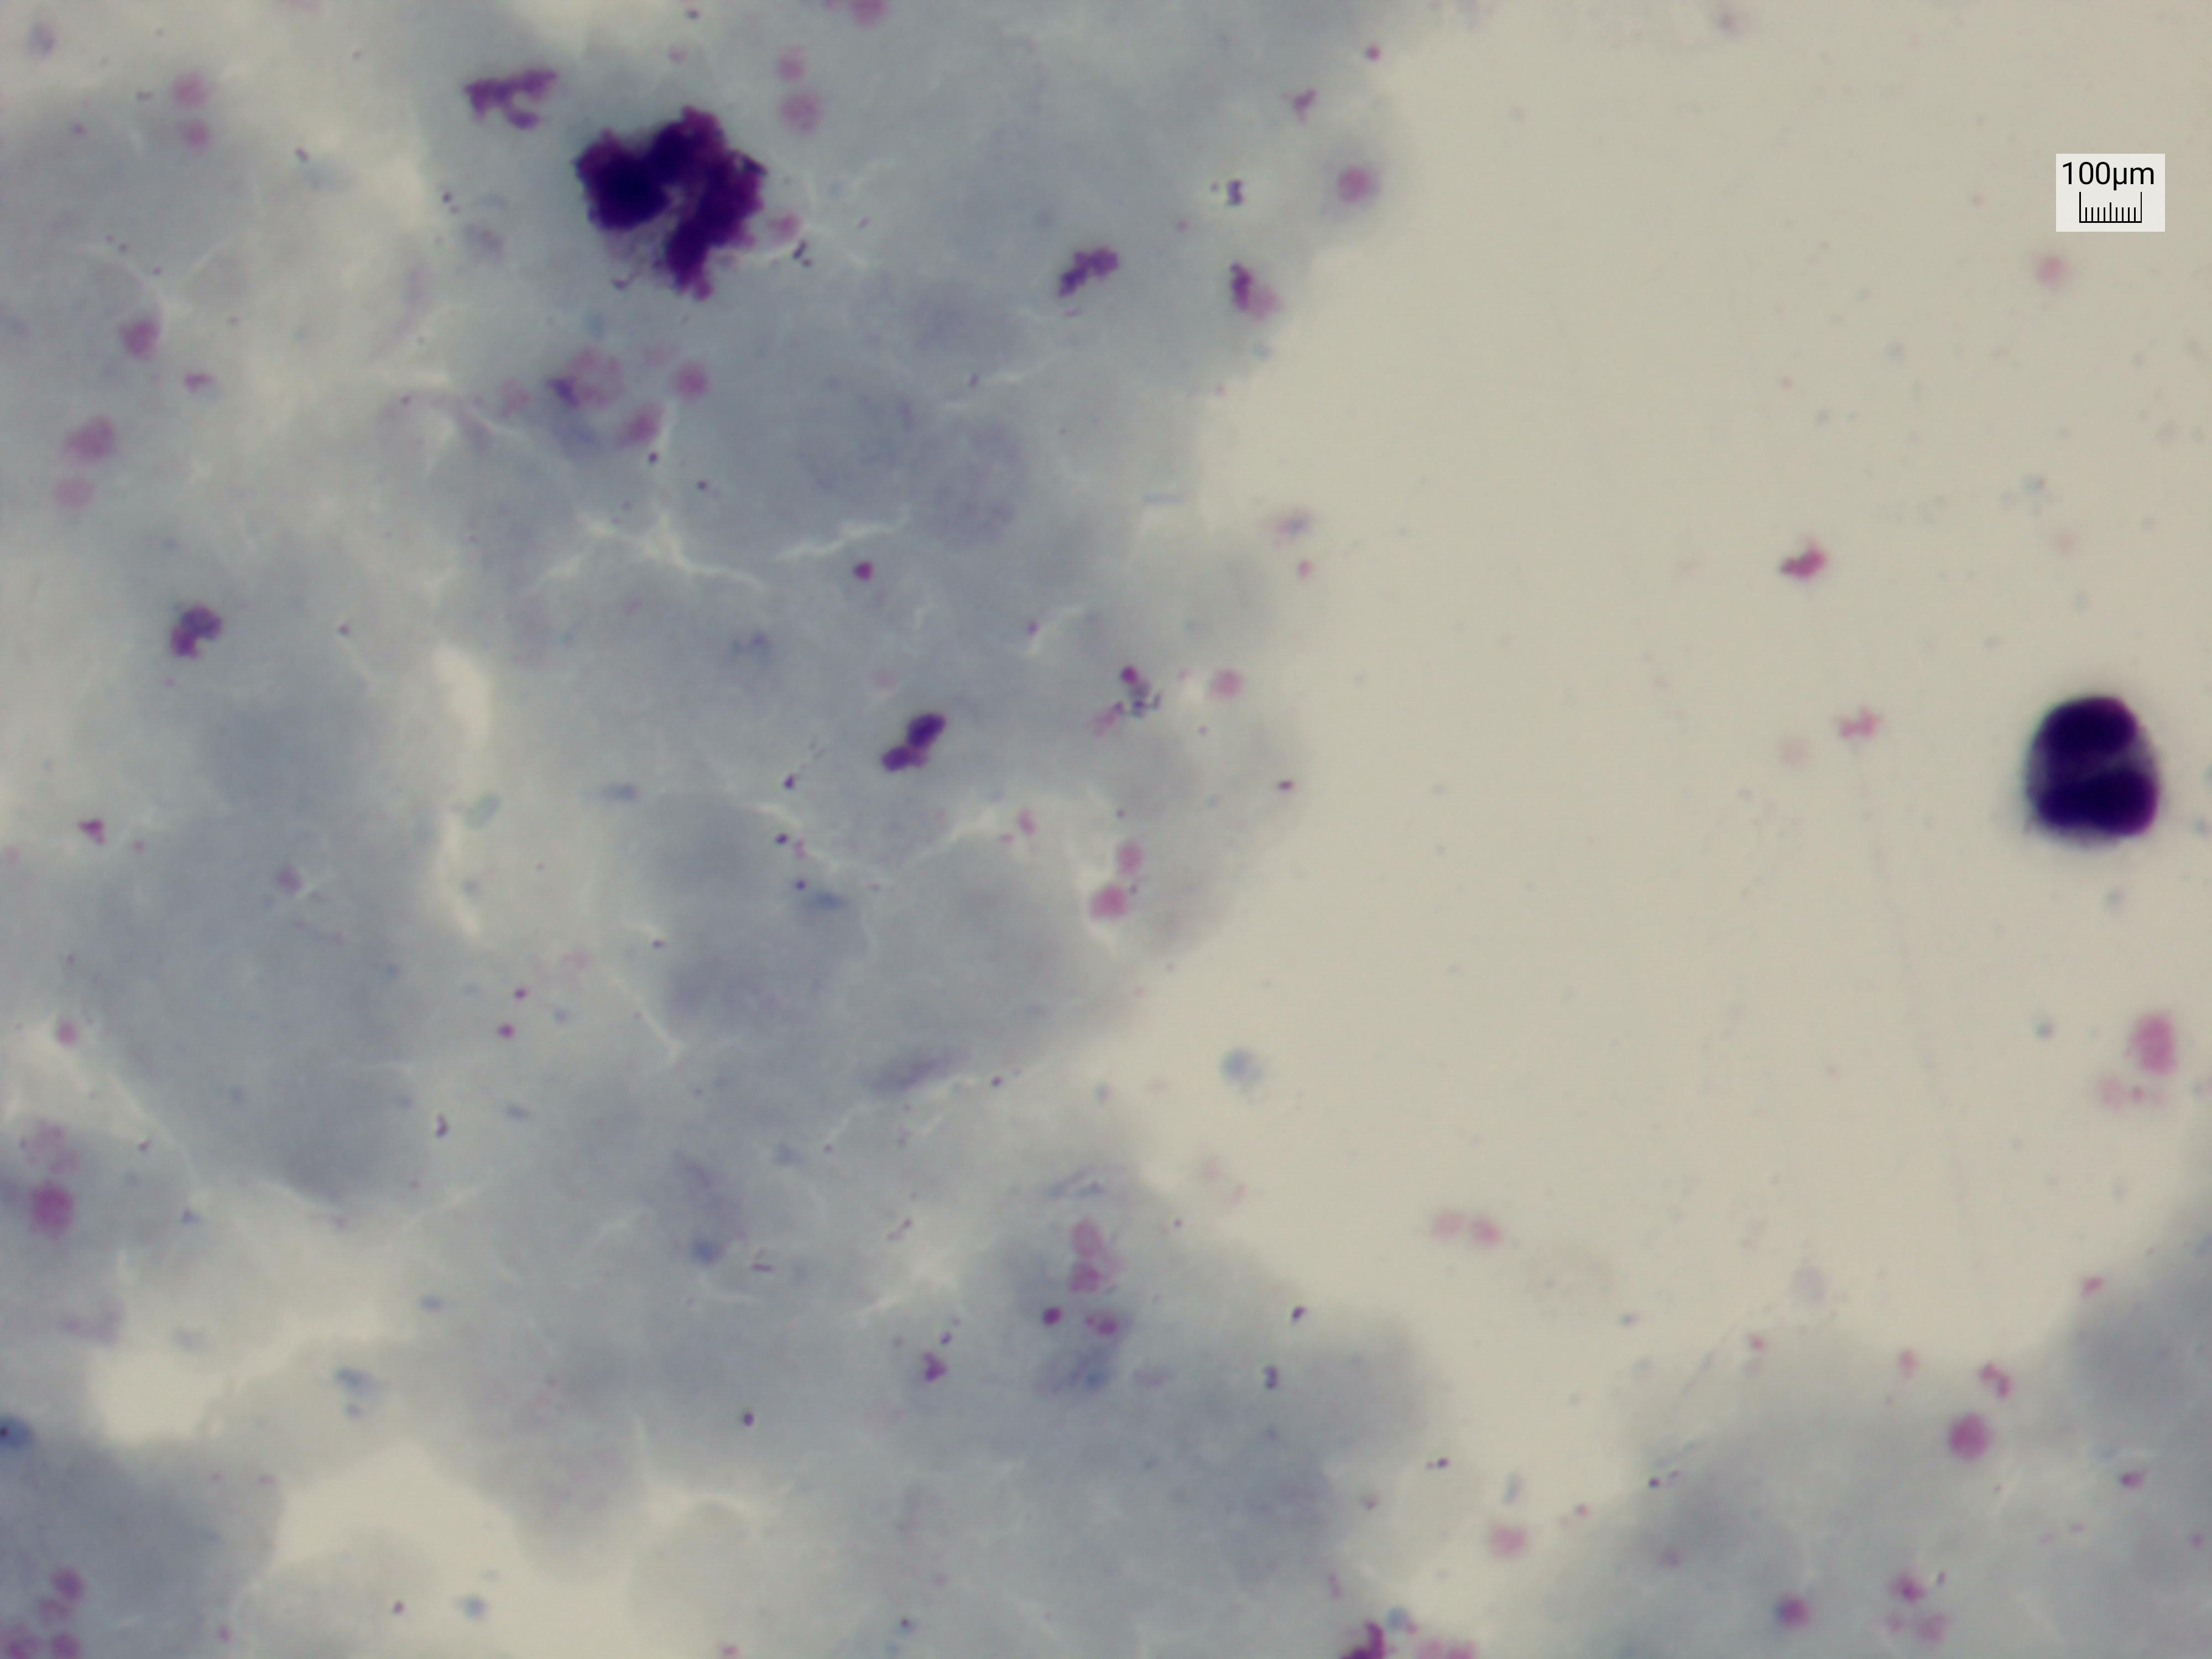p.falciparum: (902, 1310, 967, 1445), (1106, 636, 1179, 748), (1029, 1277, 1082, 1382), (833, 542, 885, 615)
